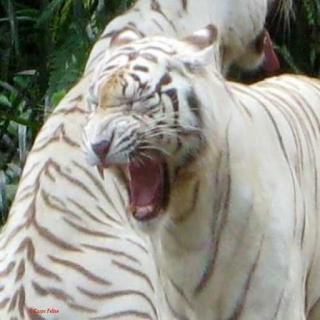Tiger: (70, 25, 320, 320)
